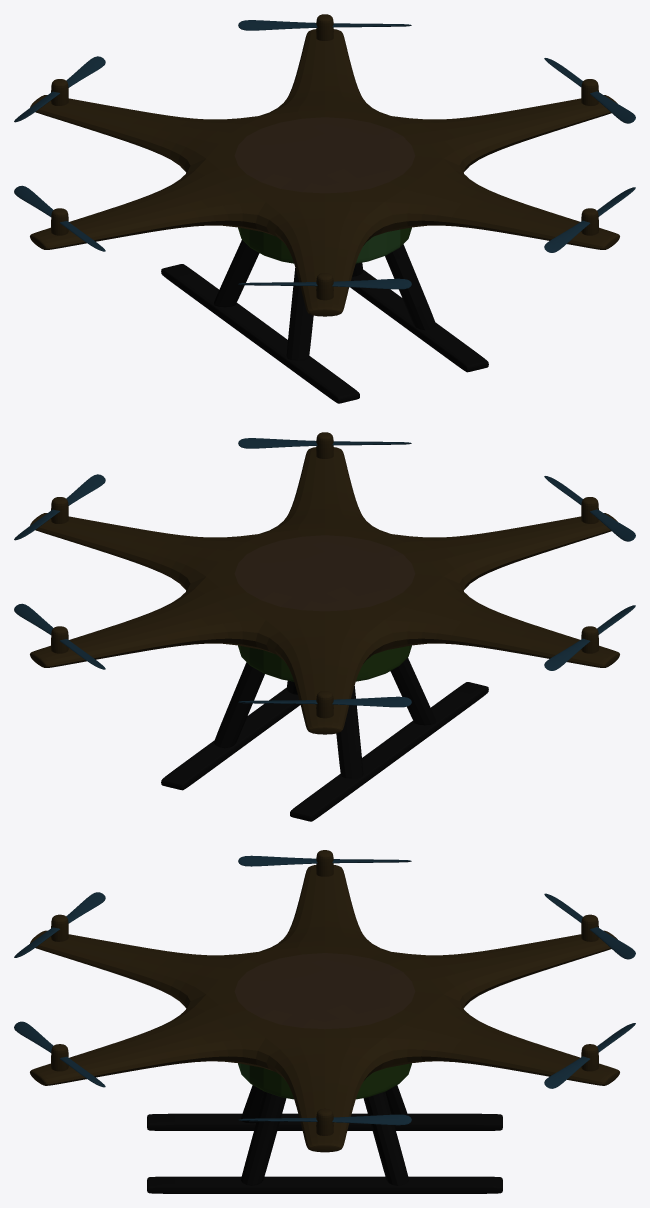
Rendered from SimplestDrone.fbx.
The picture shows the model from 3 angles, top to bottom: view 1: azimuth 30°, elevation 25°; view 2: azimuth 150°, elevation 25°; view 3: azimuth 270°, elevation 25°; orthographic projection.
Parts seen in each view (by area): view 1: Body, Propeller CCW F, Propeller CW B, Propeller CCW B, Propeller CW M, Propeller CW F, Propeller CCW M; view 2: Body, Propeller CCW B, Propeller CW F, Propeller CCW M, Propeller CW B, Propeller CW M, Propeller CCW F; view 3: Body, Propeller CCW M, Propeller CW M, Propeller CCW F, Propeller CW F, Propeller CCW B, Propeller CW B.
Part boxes in pixels (x1,y1,x2,y2): Body: [30, 14, 619, 403]; Propeller CCW F: [238, 20, 411, 30]; Propeller CW B: [238, 278, 411, 289]; Propeller CCW B: [544, 187, 635, 252]; Propeller CW M: [544, 58, 635, 123]; Propeller CW F: [14, 56, 105, 122]; Propeller CCW M: [14, 185, 105, 251]; Body: [30, 432, 619, 821]; Propeller CCW B: [238, 438, 411, 448]; Propeller CW F: [238, 696, 411, 707]; Propeller CCW M: [544, 605, 635, 670]; Propeller CW B: [544, 476, 635, 541]; Propeller CW M: [14, 474, 105, 540]; Propeller CCW F: [14, 603, 105, 669]; Body: [30, 850, 619, 1193]; Propeller CCW M: [238, 855, 411, 866]; Propeller CW M: [238, 1114, 411, 1125]; Propeller CCW F: [544, 1023, 635, 1088]; Propeller CW F: [544, 893, 635, 959]; Propeller CCW B: [14, 1021, 105, 1087]; Propeller CW B: [14, 892, 105, 957].
Bounding box in the file's own units: 373 × 109 × 349.
